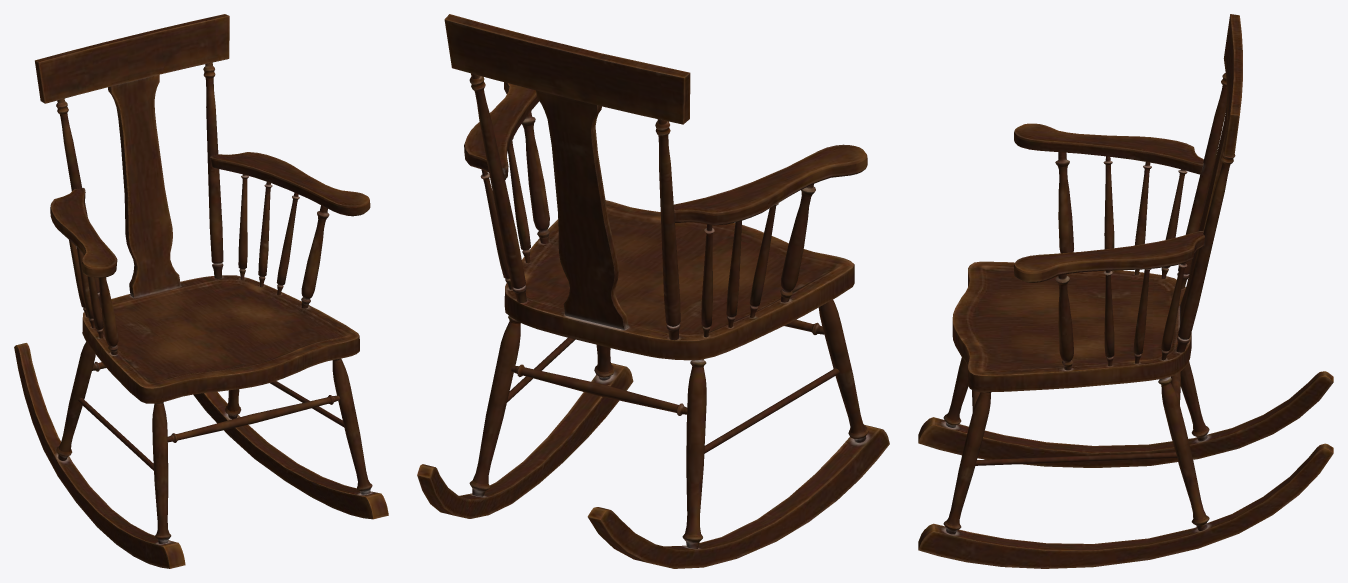
The model's file is Rockingchair_01.glb.
3 views of the same model, side by side, from view 1: azimuth 30°, elevation 25°; view 2: azimuth 150°, elevation 25°; view 3: azimuth 270°, elevation 25° (orthographic). The views are drawn at different scales.
Parts seen in each view (by area): view 1: Rockingchair_01; view 2: Rockingchair_01; view 3: Rockingchair_01.
Boxes of the visible parts, <box> form: Rockingchair_01: <box>14,14,388,568</box>; Rockingchair_01: <box>417,14,889,568</box>; Rockingchair_01: <box>918,14,1333,568</box>.
Bounding box in the file's own units: 0.7081 × 0.9949 × 0.8335.
Materials: 1 (1 with a texture image).
